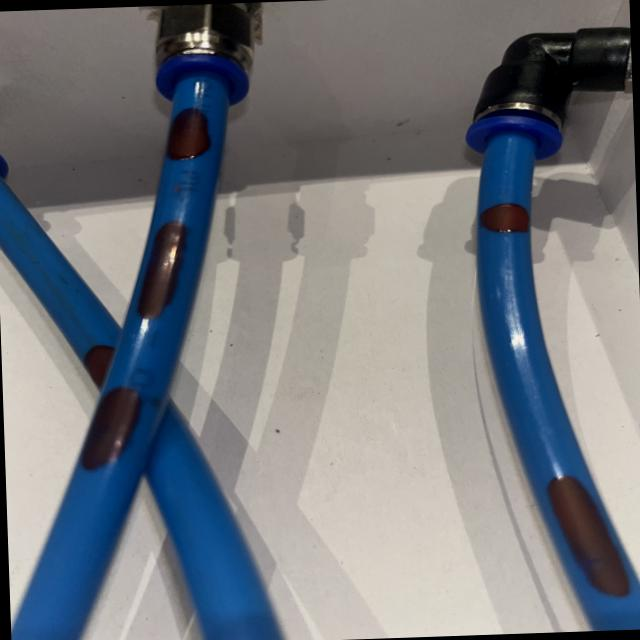hose_damage: (534, 467, 640, 608), (70, 383, 153, 477), (129, 216, 194, 325), (160, 105, 216, 163), (71, 339, 121, 398), (476, 200, 534, 238)
